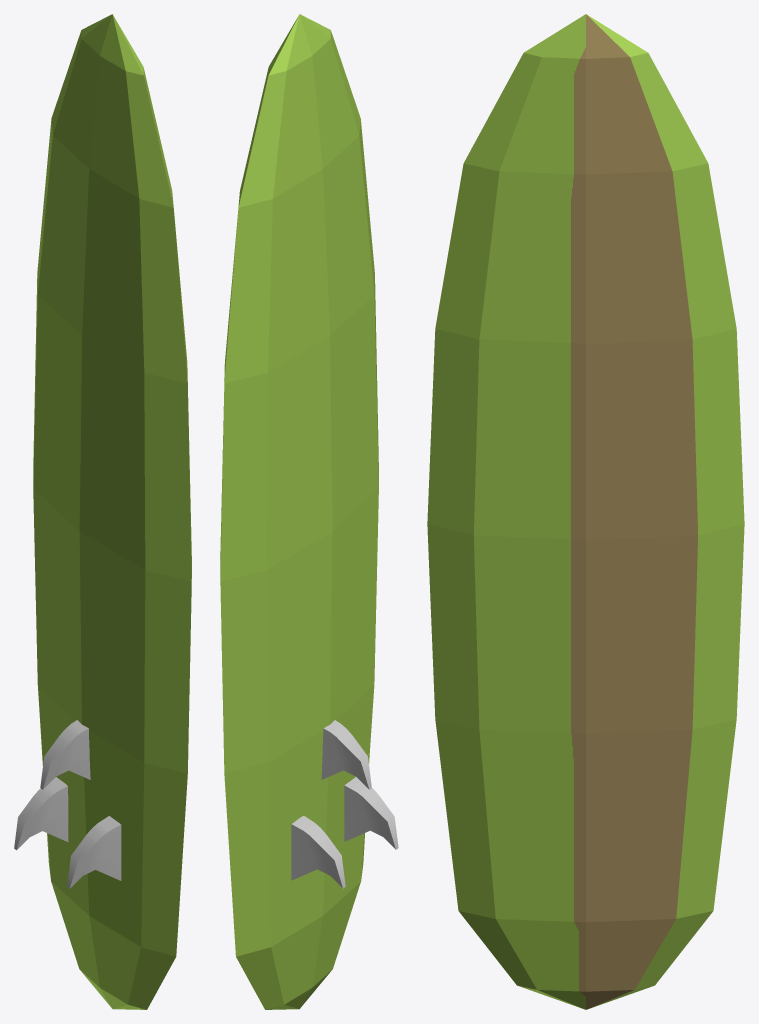
Rendered from obs_med_surfGreen.fbx.
3 views of the same model, side by side, from view 1: azimuth 30°, elevation 25°; view 2: azimuth 150°, elevation 25°; view 3: azimuth 270°, elevation 25° (orthographic).
Parts seen in each view (by area): view 1: pCube61; view 2: pCube61; view 3: pCube61.
Part boxes in pixels (left/top/right/bottom): pCube61: left=14, top=14, right=191, bottom=1009; pCube61: left=220, top=14, right=398, bottom=1009; pCube61: left=427, top=14, right=744, bottom=1009.
Bounding box in the file's own units: 0.7362 × 6.74 × 1.94.
